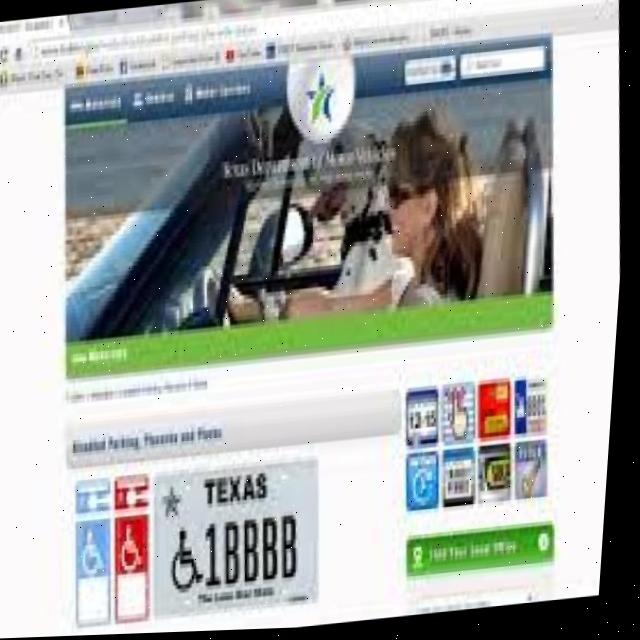symbol_of_access: (173, 525, 215, 598), (125, 522, 155, 573), (86, 527, 114, 578)
